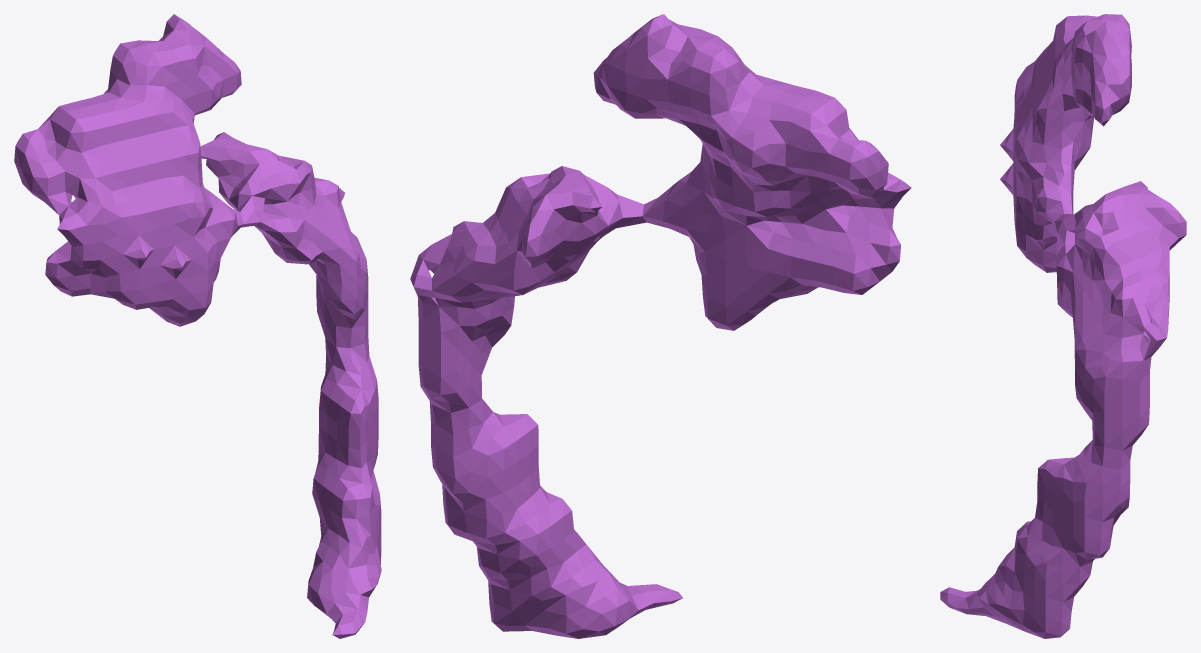
File: aseg_044_Right-Inf-Lat-Vent.glb
3 views of the same model, side by side, from view 1: azimuth 30°, elevation 25°; view 2: azimuth 150°, elevation 25°; view 3: azimuth 270°, elevation 25° (orthographic). The views are drawn at different scales.
Bounding box in the file's own units: 20 × 30.8 × 12.6.
